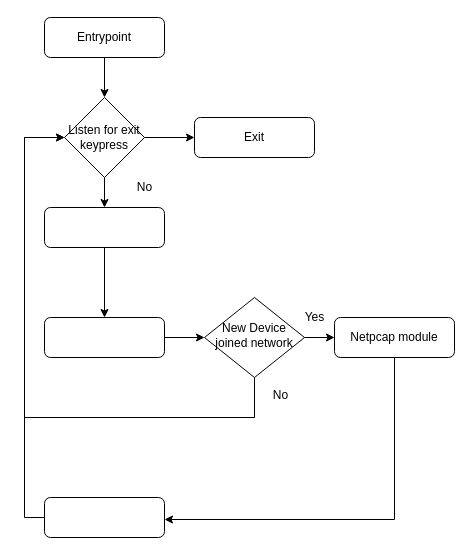
The diagram is 472 pixels wide and 555 high, and some of its shapes have lost their labels. Each missing label, with the box of its shape:
Modify ARP Tables: (44, 496, 164, 538)
Python CLI: (44, 206, 164, 248)
Scapy module: (44, 316, 164, 358)
